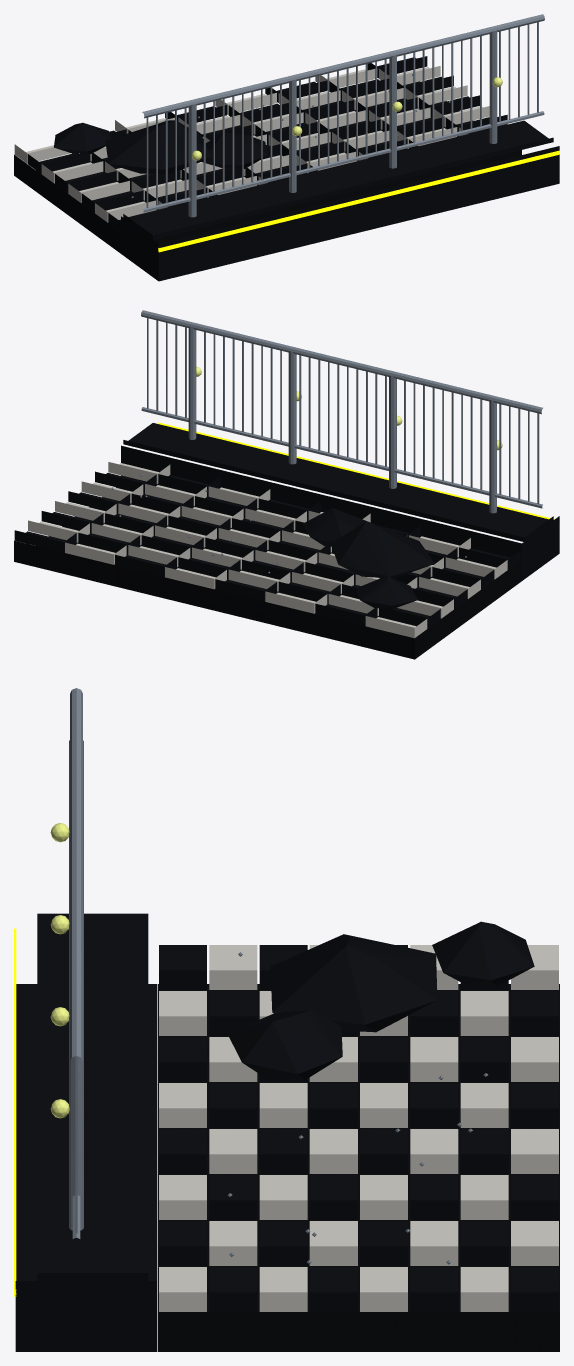
The model's file is v5_edge.glb.
3 renders of one model, top to bottom at view 1: azimuth 30°, elevation 25°; view 2: azimuth 150°, elevation 25°; view 3: azimuth 270°, elevation 25°, orthographic. The views are drawn at different scales.
Parts seen in each view (by area): view 1: Coping_Kerb, Guard_Frame, Pavers_A, Pavers_B, Boulder_Seats, Deck_Slab, Coping_Line, Post_Holds; view 2: Coping_Kerb, Pavers_A, Pavers_B, Guard_Frame, Deck_Slab, Boulder_Seats, Coping_Line; view 3: Pavers_A, Pavers_B, Coping_Kerb, Deck_Slab, Boulder_Seats, Guard_Frame, Post_Holds, Coping_Line.
Part boxes in pixels (x1,y1,x2,y2): Coping_Kerb: [121, 120, 559, 281]; Guard_Frame: [142, 14, 544, 217]; Pavers_A: [14, 66, 489, 222]; Pavers_B: [28, 56, 507, 231]; Boulder_Seats: [54, 120, 267, 174]; Deck_Slab: [14, 81, 521, 253]; Coping_Line: [158, 150, 559, 252]; Post_Holds: [191, 77, 502, 160]; Coping_Kerb: [121, 423, 559, 580]; Pavers_A: [28, 462, 507, 638]; Pavers_B: [14, 471, 520, 628]; Guard_Frame: [141, 310, 542, 513]; Deck_Slab: [14, 487, 521, 659]; Boulder_Seats: [303, 508, 434, 608]; Coping_Line: [158, 422, 559, 523]; Pavers_A: [159, 945, 558, 1311]; Pavers_B: [159, 945, 558, 1311]; Coping_Kerb: [15, 913, 156, 1351]; Deck_Slab: [157, 984, 559, 1351]; Boulder_Seats: [227, 921, 534, 1080]; Guard_Frame: [69, 688, 83, 1238]; Post_Holds: [50, 823, 69, 1118]; Coping_Line: [14, 928, 16, 1296].
Size of what is drawn, in the model's own units: 4 by 1.5 by 2.51.
Materials: 7 (4 with a texture image).
